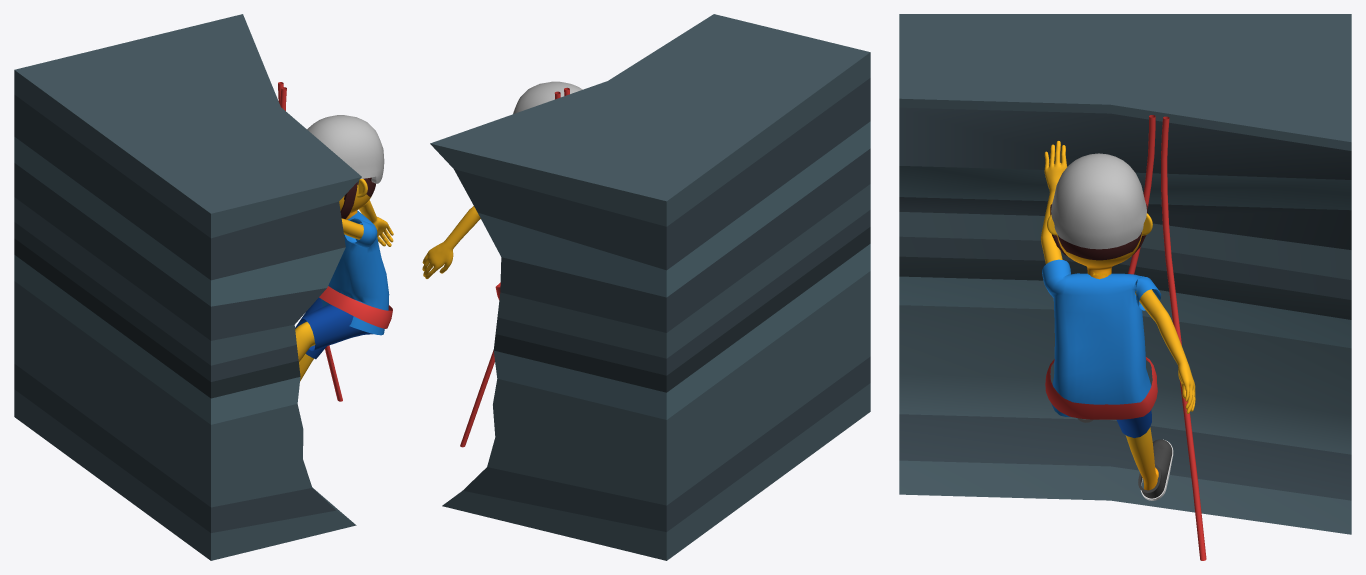
The model's file is person_climbing.fbx.
The picture shows the model from 3 angles, left to right: view 1: azimuth 30°, elevation 25°; view 2: azimuth 150°, elevation 25°; view 3: azimuth 270°, elevation 25°; orthographic projection. The views are drawn at different scales.
Visible parts, largest first — view 1: Cube.018, Circle.032, Cube.020, Circle.046; view 2: Cube.018, Circle.032, Cube.020, Circle.046; view 3: Cube.018, Circle.032, Cube.020, Circle.046, Roundcube.444, Sphere.011.
Part boxes in pixels (x1,y1,x2,y2): Cube.018: (14, 14, 361, 560); Circle.032: (295, 200, 393, 381); Cube.020: (307, 115, 384, 183); Circle.046: (278, 82, 392, 401); Cube.018: (430, 14, 870, 560); Circle.032: (422, 206, 480, 278); Cube.020: (513, 81, 582, 113); Circle.046: (460, 87, 569, 447); Cube.018: (899, 14, 1351, 534); Circle.032: (1041, 141, 1195, 490); Cube.020: (1051, 153, 1146, 249); Circle.046: (1045, 115, 1206, 560); Roundcube.444: (1057, 231, 1142, 279); Sphere.011: (1138, 439, 1173, 500).
Size of the model in its own units: 212 by 229 by 235.
2 materials, 2 textured.
